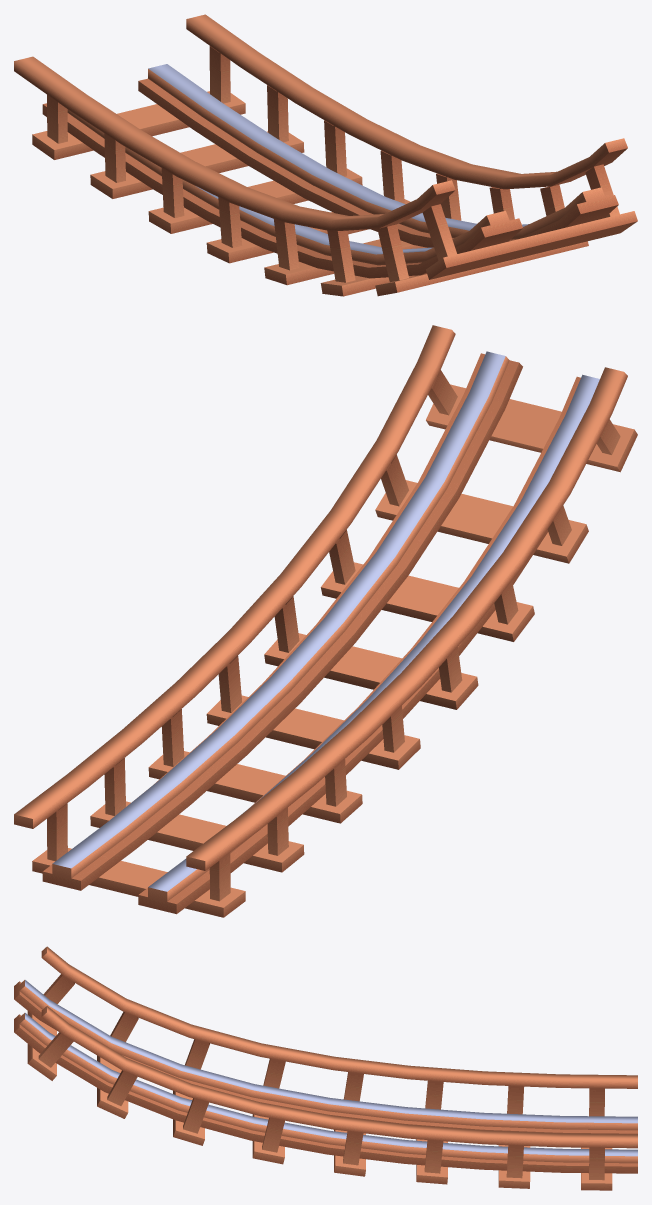
The model's file is coaster-wood-straight-hill-beginning.glb.
3 views of the same model, one above another, from view 1: azimuth 30°, elevation 25°; view 2: azimuth 150°, elevation 25°; view 3: azimuth 270°, elevation 25° (orthographic). The views are drawn at different scales.
Parts seen in each view (by area): view 1: coaster-wood-straight-hill-beginning; view 2: coaster-wood-straight-hill-beginning; view 3: coaster-wood-straight-hill-beginning.
Boxes of the visible parts, box(x1,y1,x2,y2) form: coaster-wood-straight-hill-beginning: box(14, 14, 637, 296); coaster-wood-straight-hill-beginning: box(14, 325, 637, 917); coaster-wood-straight-hill-beginning: box(14, 946, 637, 1190).
Size of the model in its own units: 1 by 1.26 by 4.
1 material, 1 textured.
